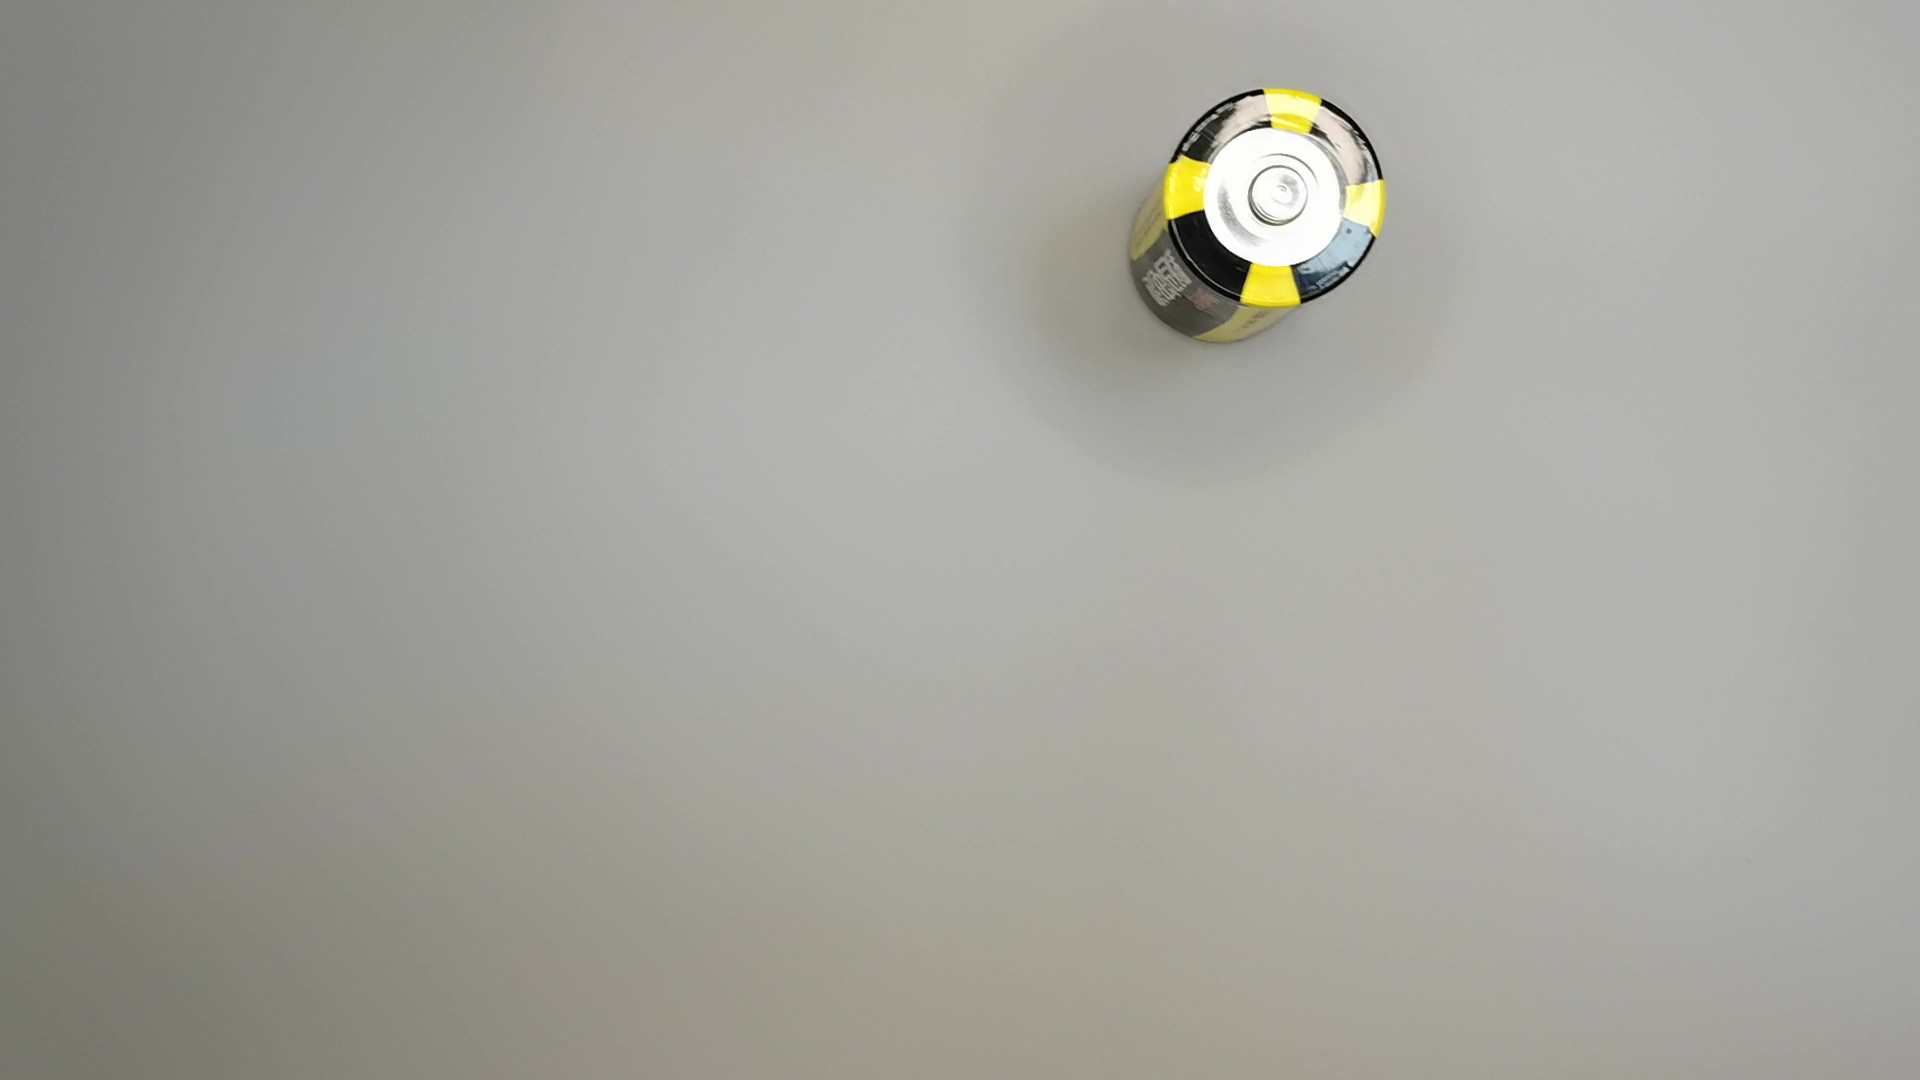battery: (1120, 84, 1389, 349)
